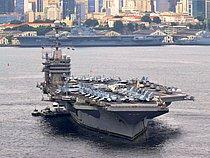MIL_Ship: (35, 41, 194, 141)
